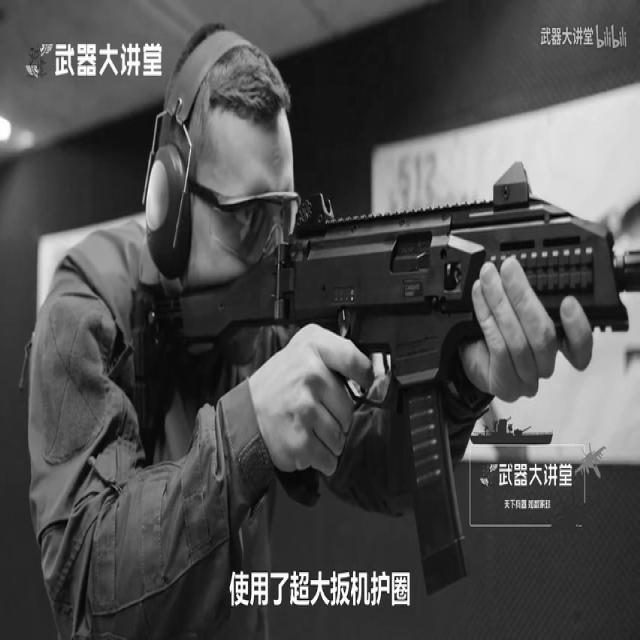Sniper: (25, 101, 640, 634)
